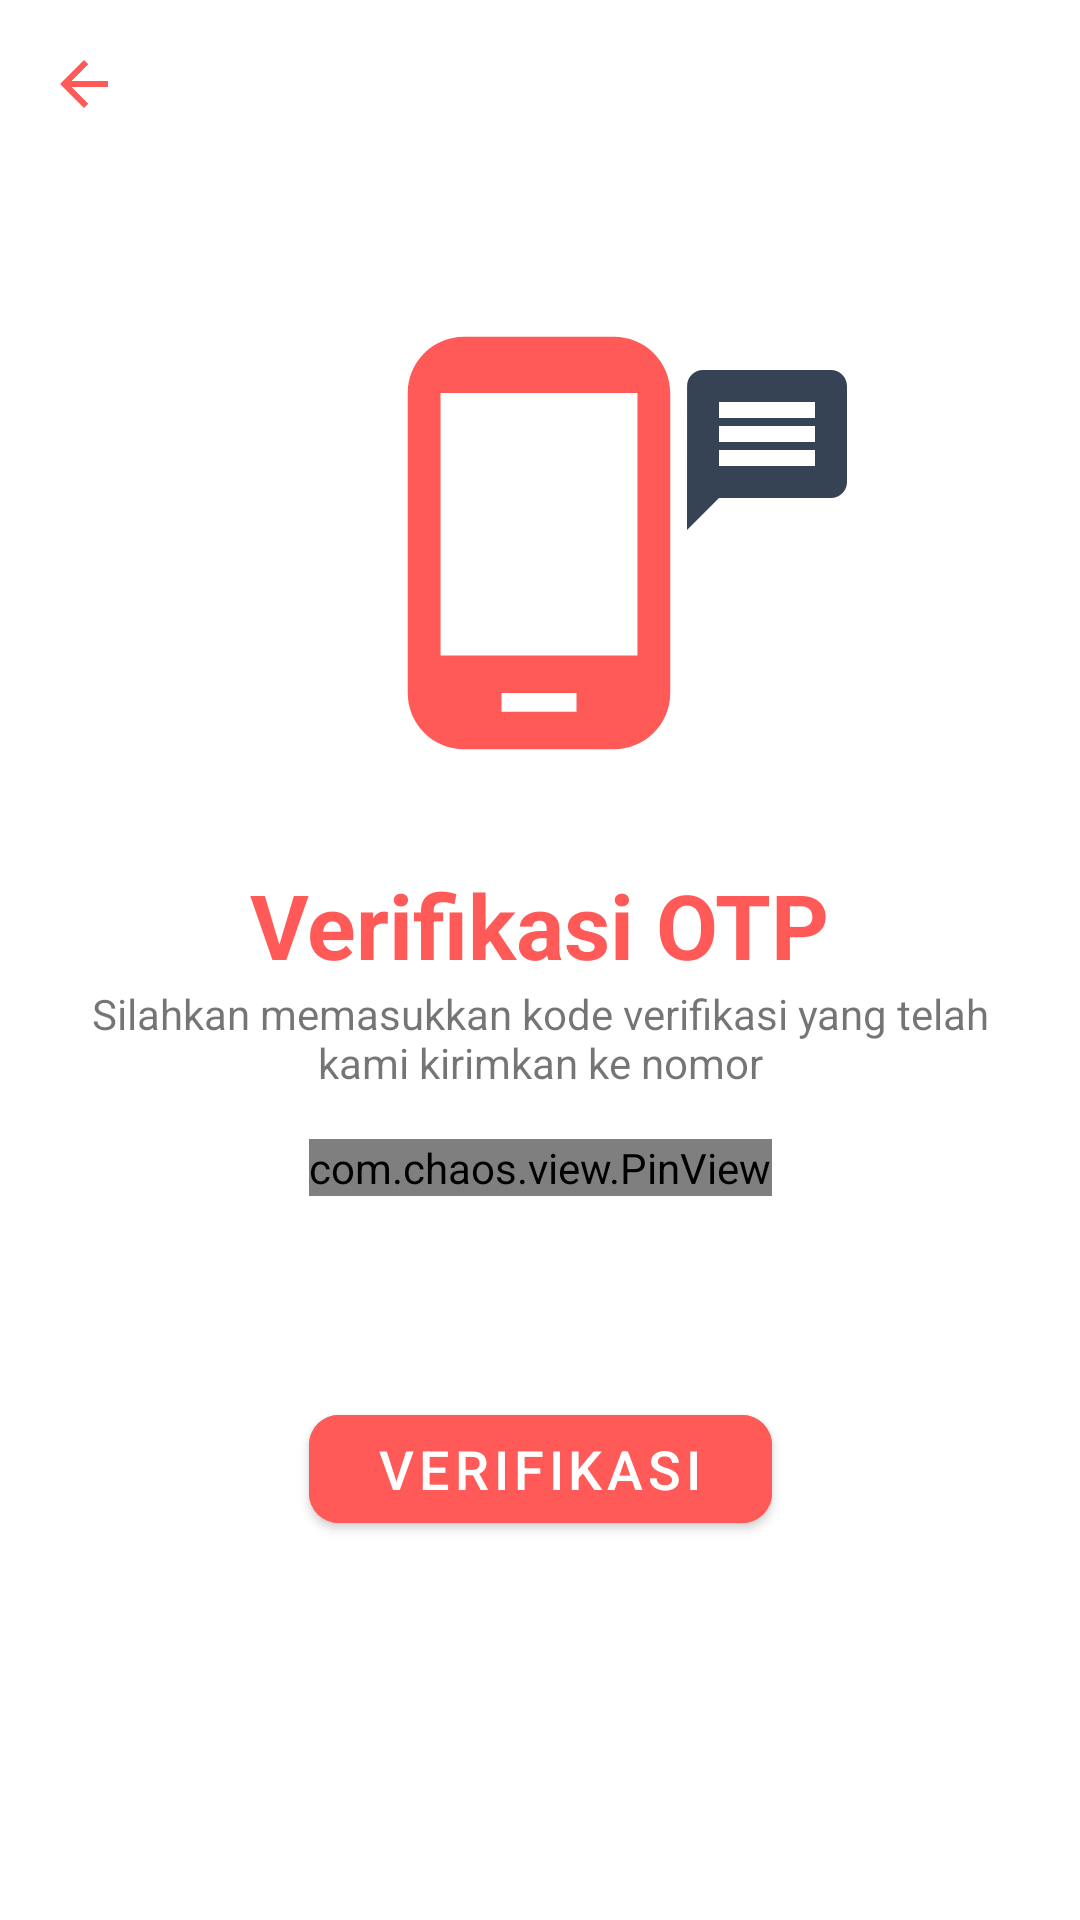

Icons on this 1080*1920 Android screen, each with the point to tap as point (x, y):
message: point (767, 450)
